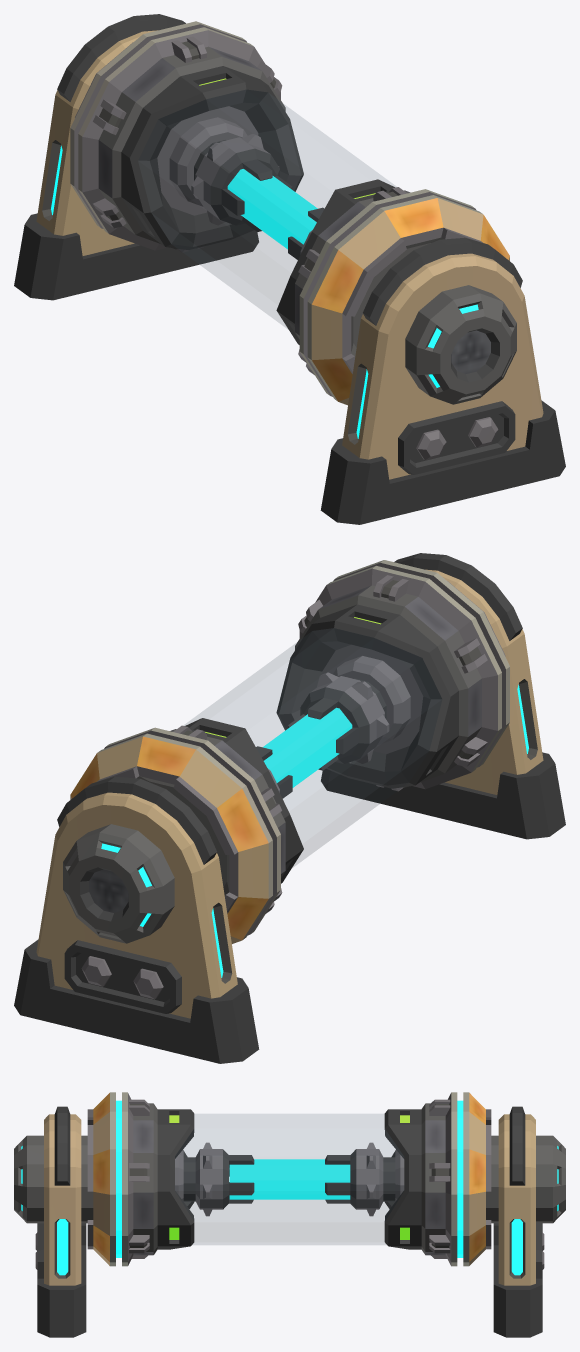
The model's file is entity756344.glb.
3 renders of one model, top to bottom at view 1: azimuth 30°, elevation 25°; view 2: azimuth 150°, elevation 25°; view 3: azimuth 270°, elevation 25°, orthographic. The views are drawn at different scales.
Visible parts, largest first — view 1: node_SM_Prop_PowerGenerator_02 (1), node_SM_Prop_PowerGenerator_02_Chamber_01, node_SM_Prop_PowerGenerator_02_Glass_01; view 2: node_SM_Prop_PowerGenerator_02 (1), node_SM_Prop_PowerGenerator_02_Chamber_01, node_SM_Prop_PowerGenerator_02_Glass_01; view 3: node_SM_Prop_PowerGenerator_02_Chamber_01, node_SM_Prop_PowerGenerator_02_Glass_01, node_SM_Prop_PowerGenerator_02 (1).
Part boxes in pixels (left/top/right/bottom): node_SM_Prop_PowerGenerator_02 (1): left=14, top=14, right=565, bottom=524; node_SM_Prop_PowerGenerator_02_Chamber_01: left=70, top=21, right=509, bottom=405; node_SM_Prop_PowerGenerator_02_Glass_01: left=138, top=78, right=395, bottom=328; node_SM_Prop_PowerGenerator_02 (1): left=14, top=553, right=565, bottom=1063; node_SM_Prop_PowerGenerator_02_Chamber_01: left=70, top=560, right=509, bottom=943; node_SM_Prop_PowerGenerator_02_Glass_01: left=184, top=617, right=441, bottom=866; node_SM_Prop_PowerGenerator_02_Chamber_01: left=87, top=1092, right=491, bottom=1266; node_SM_Prop_PowerGenerator_02_Glass_01: left=170, top=1114, right=409, bottom=1244; node_SM_Prop_PowerGenerator_02 (1): left=14, top=1106, right=565, bottom=1337.
Size of the model in its own units: 2.61 by 2.84 by 7.32.
Materials: 2 (2 with a texture image).
